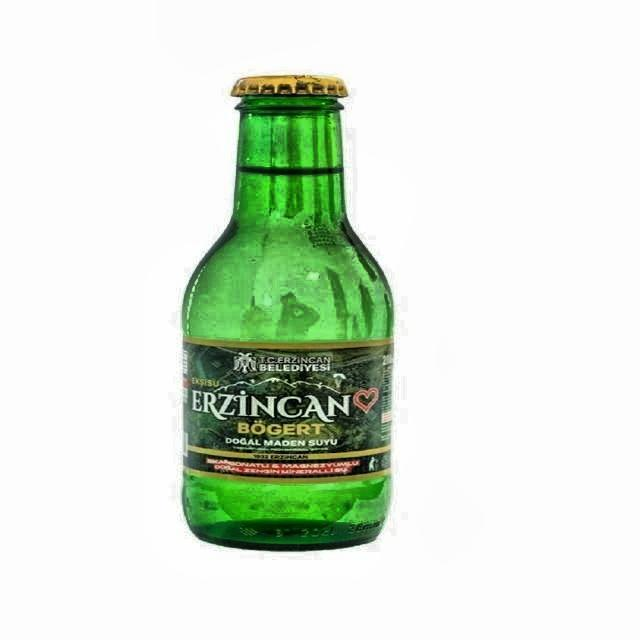glass: (181, 76, 395, 553)
